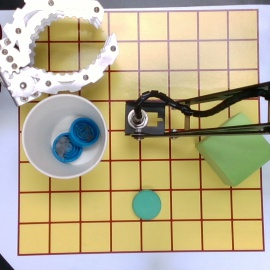cup_blue: (23, 95, 107, 182)
green: (132, 190, 161, 219)
